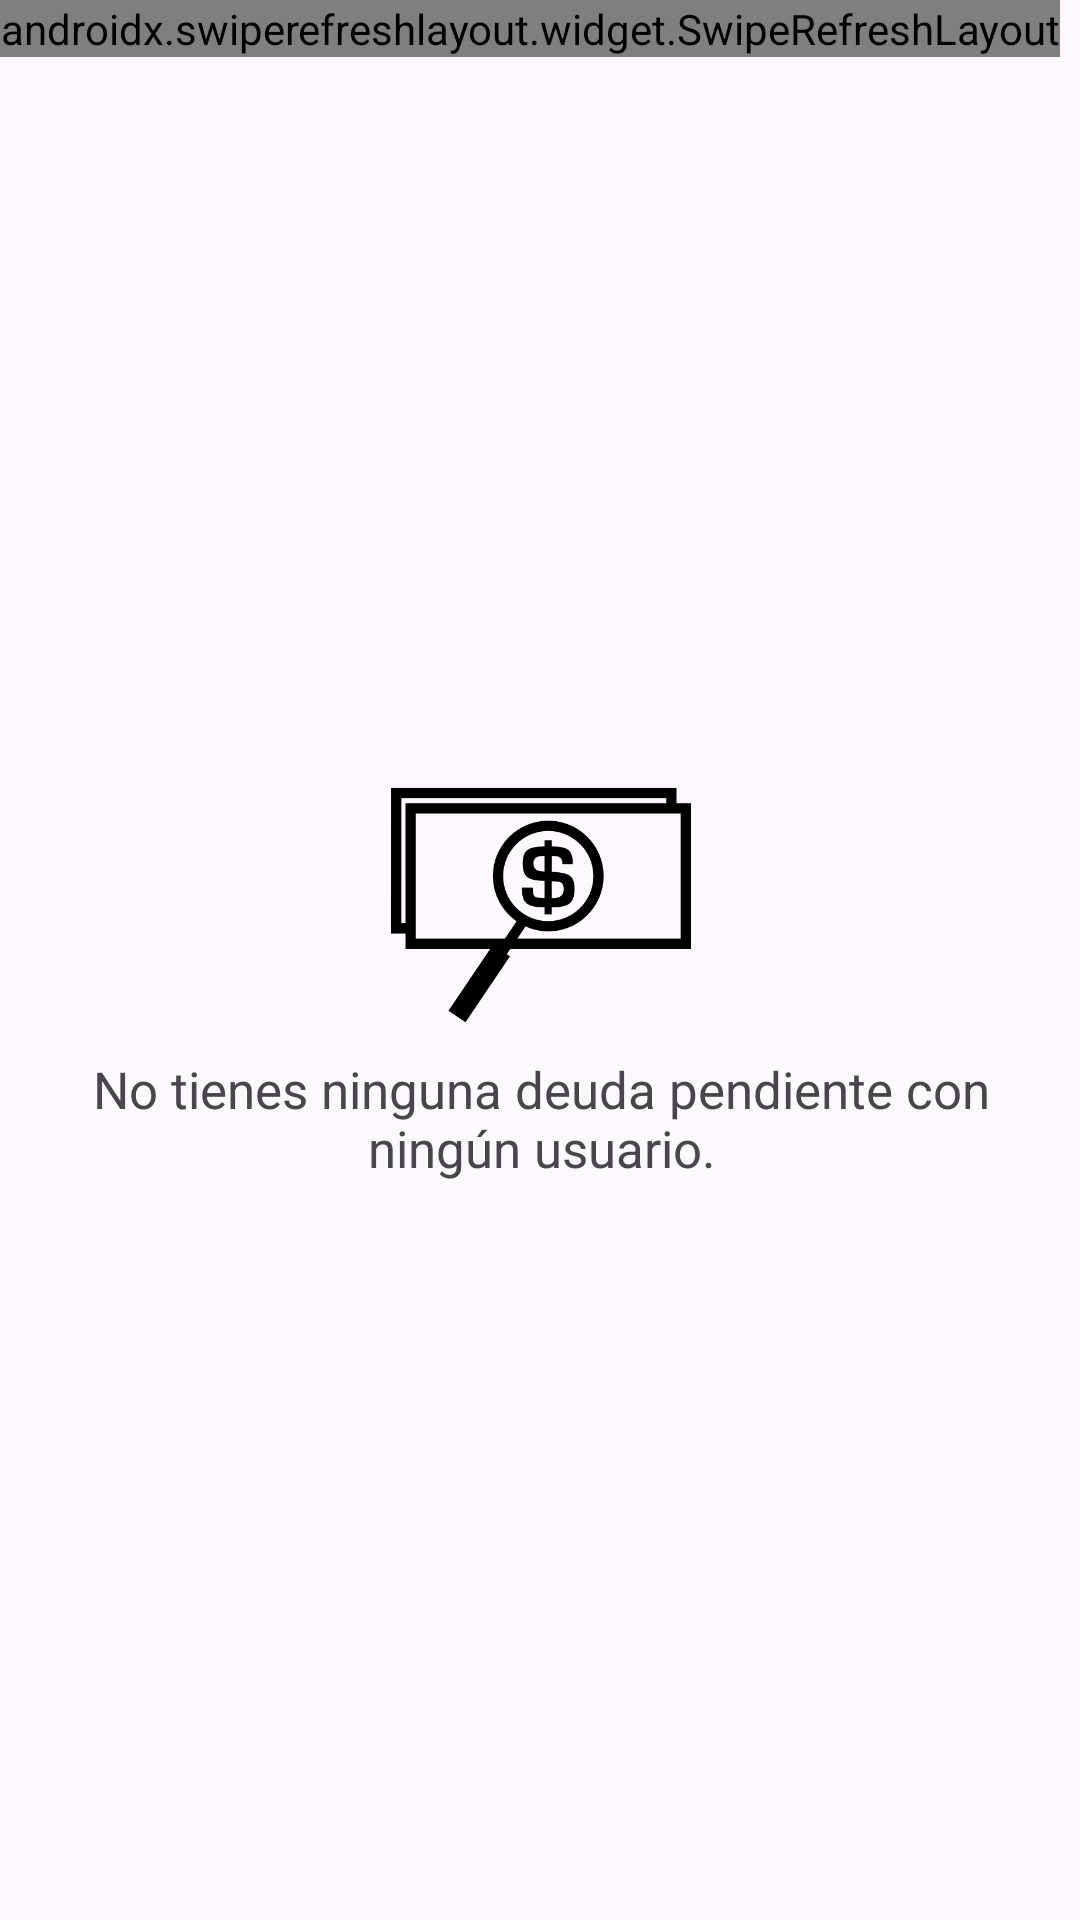

Icon bounding boxes for this 1080*1920 phone screenshot, format bbox(x1, y1, x2, y2):
list empty: bbox(391, 788, 691, 1022)
